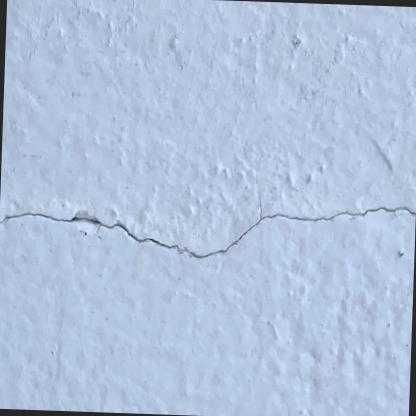crack: (0, 192, 416, 261)
